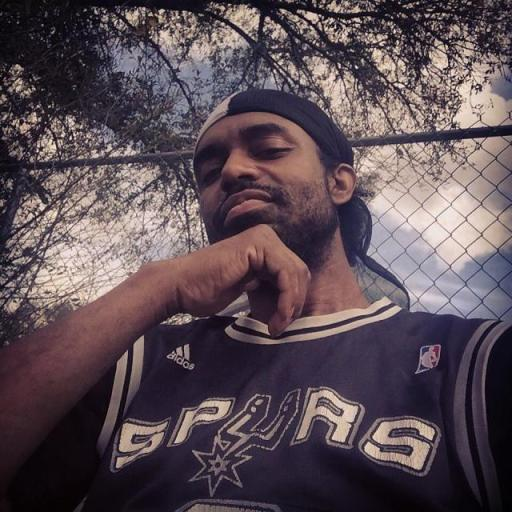Adidas: (163, 340, 197, 372)
